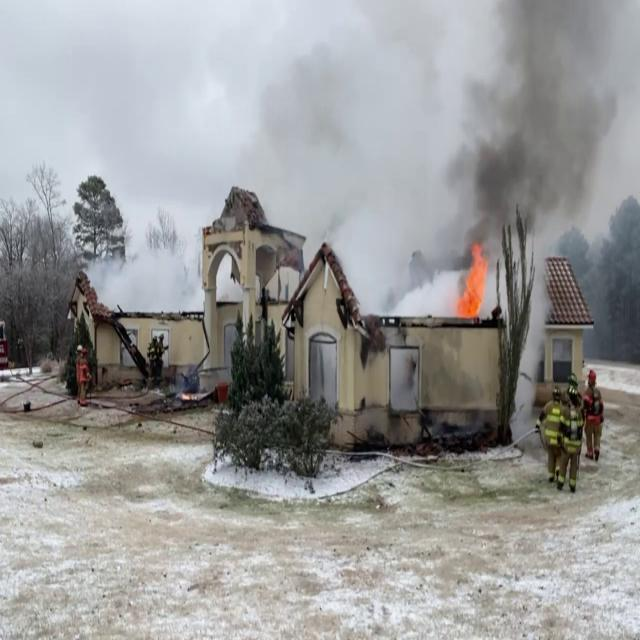Fire: (456, 236, 494, 322)
Smoke: (429, 0, 636, 248)
